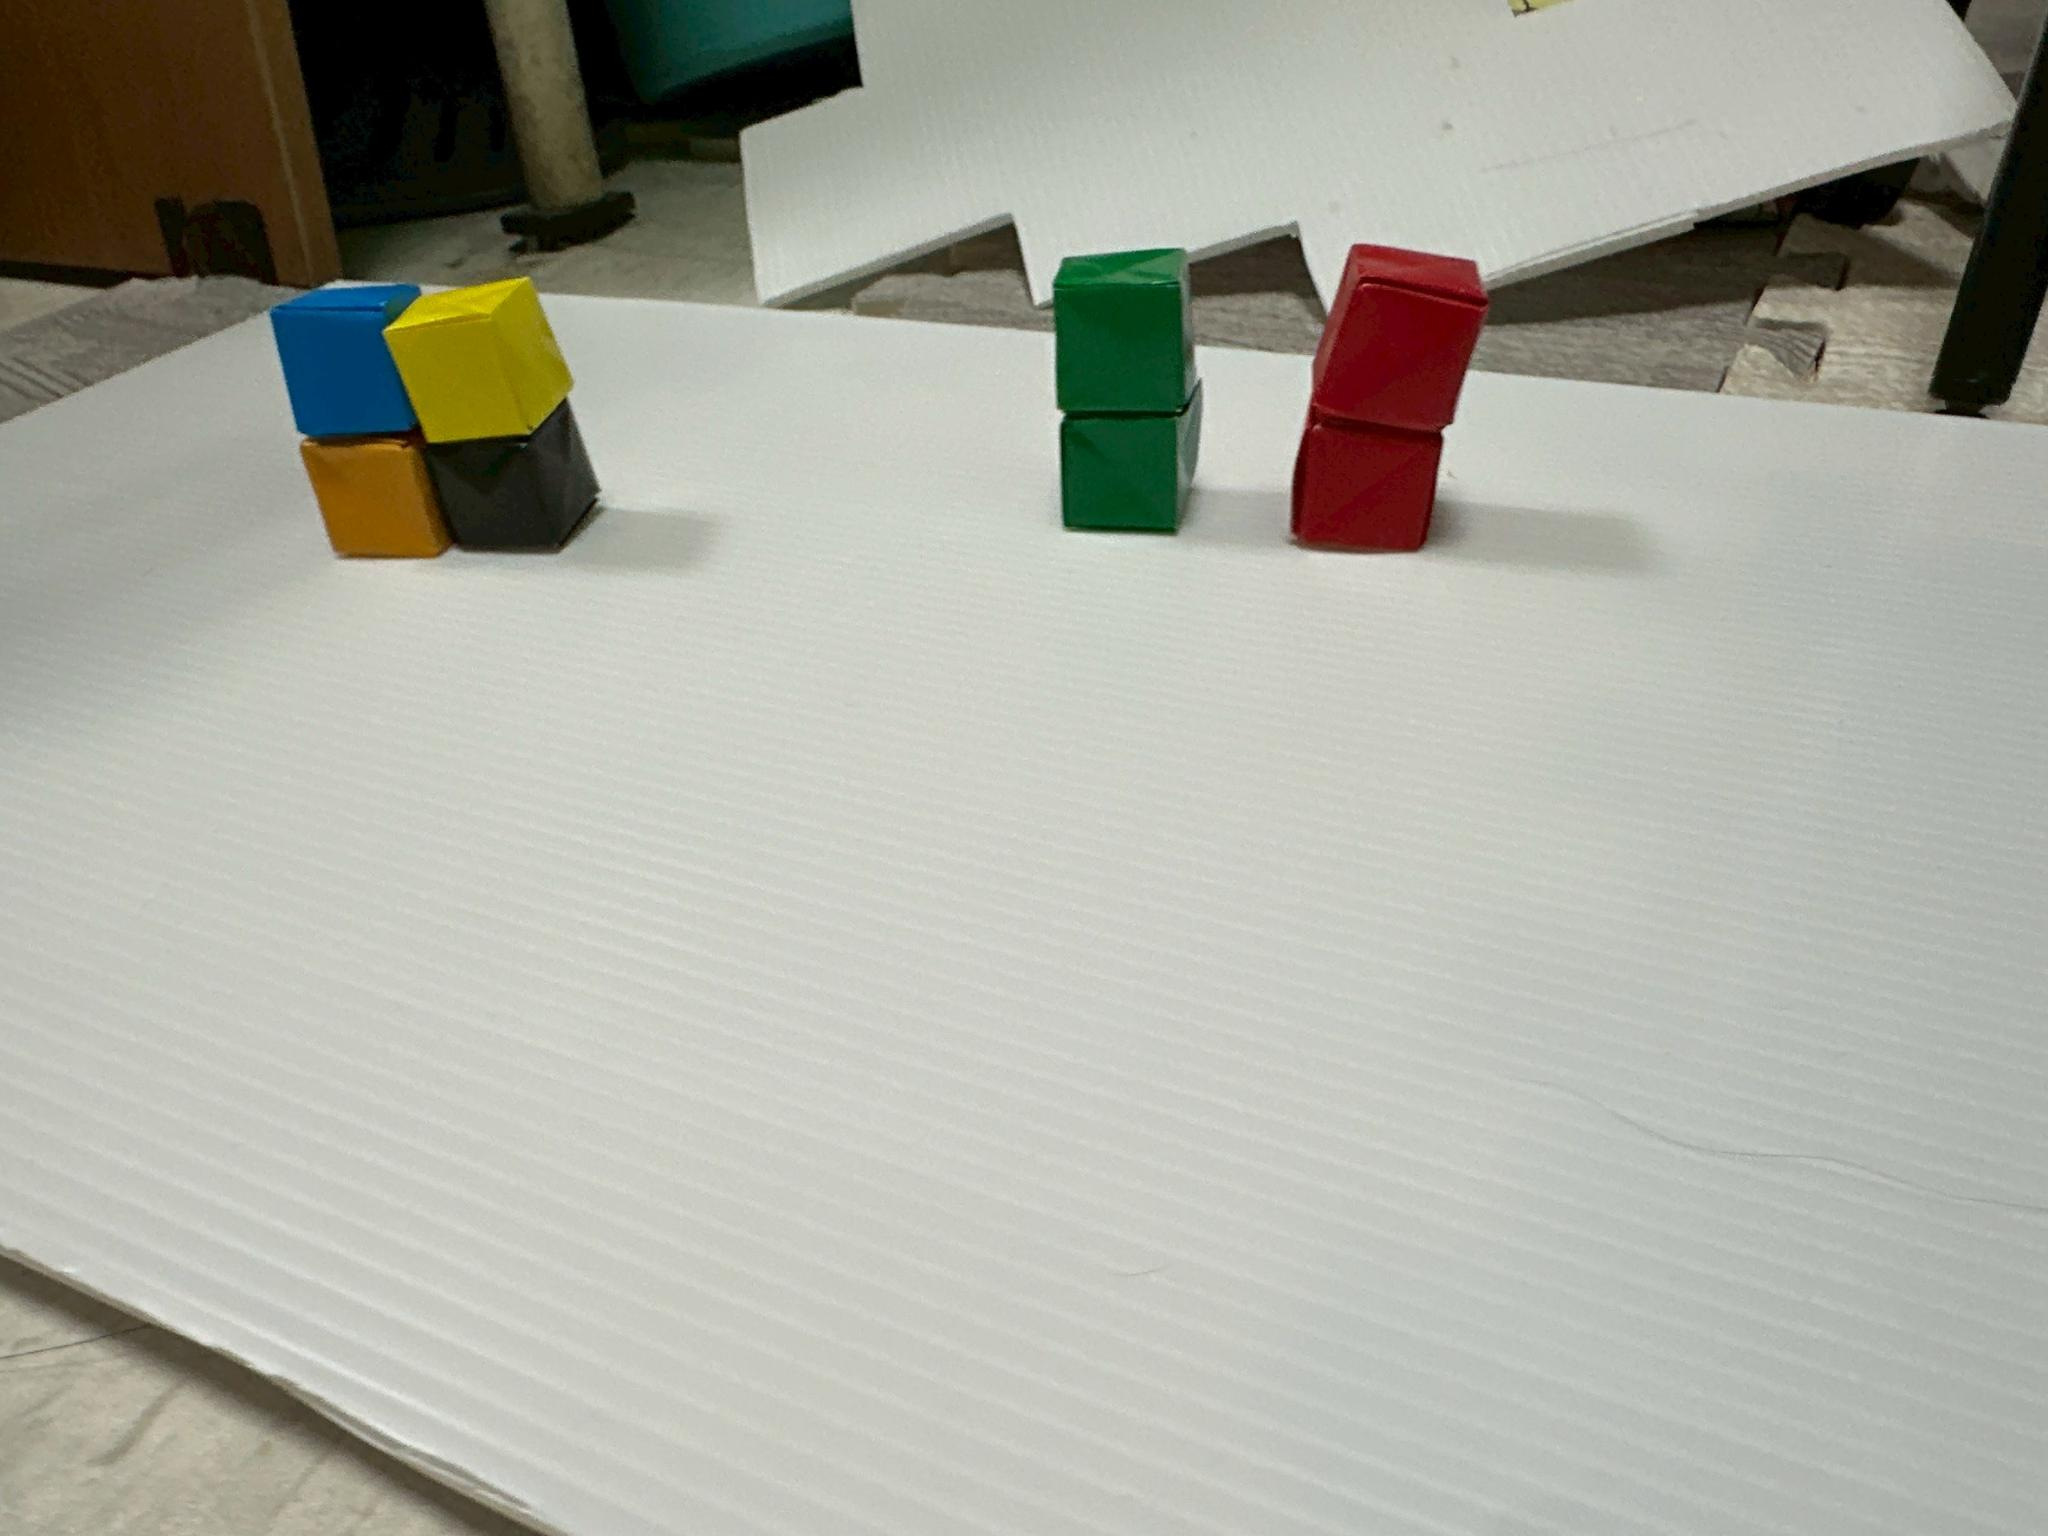base: (1309, 245, 1487, 434), (384, 278, 571, 443), (425, 399, 599, 550), (1053, 249, 1196, 415), (270, 284, 419, 439), (1060, 386, 1202, 532), (1291, 415, 1442, 551), (301, 437, 450, 558)
